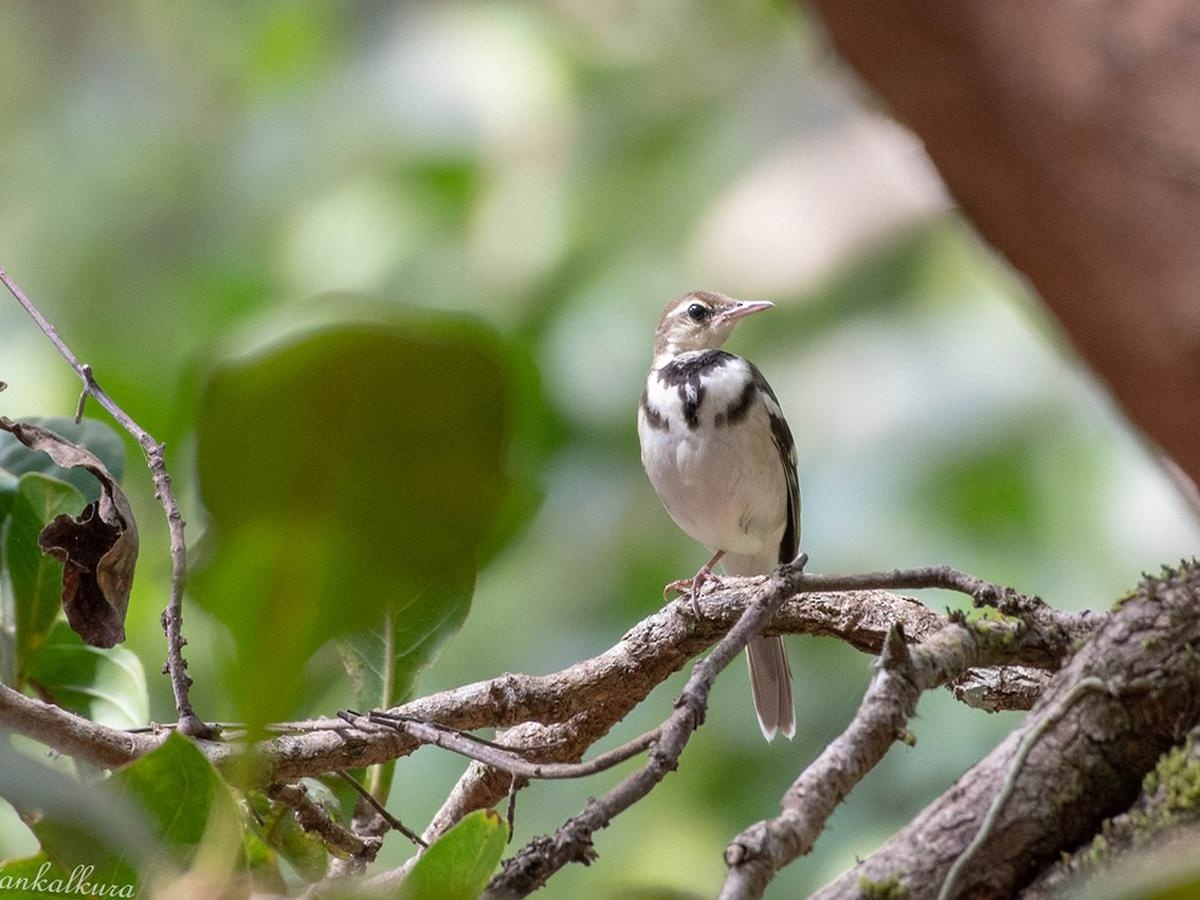wagtail: (607, 256, 868, 694)
